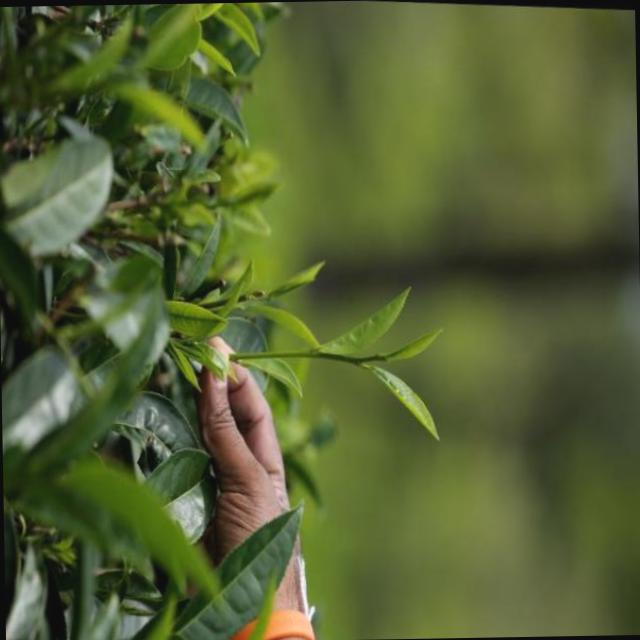Stem: (306, 347, 317, 356)
